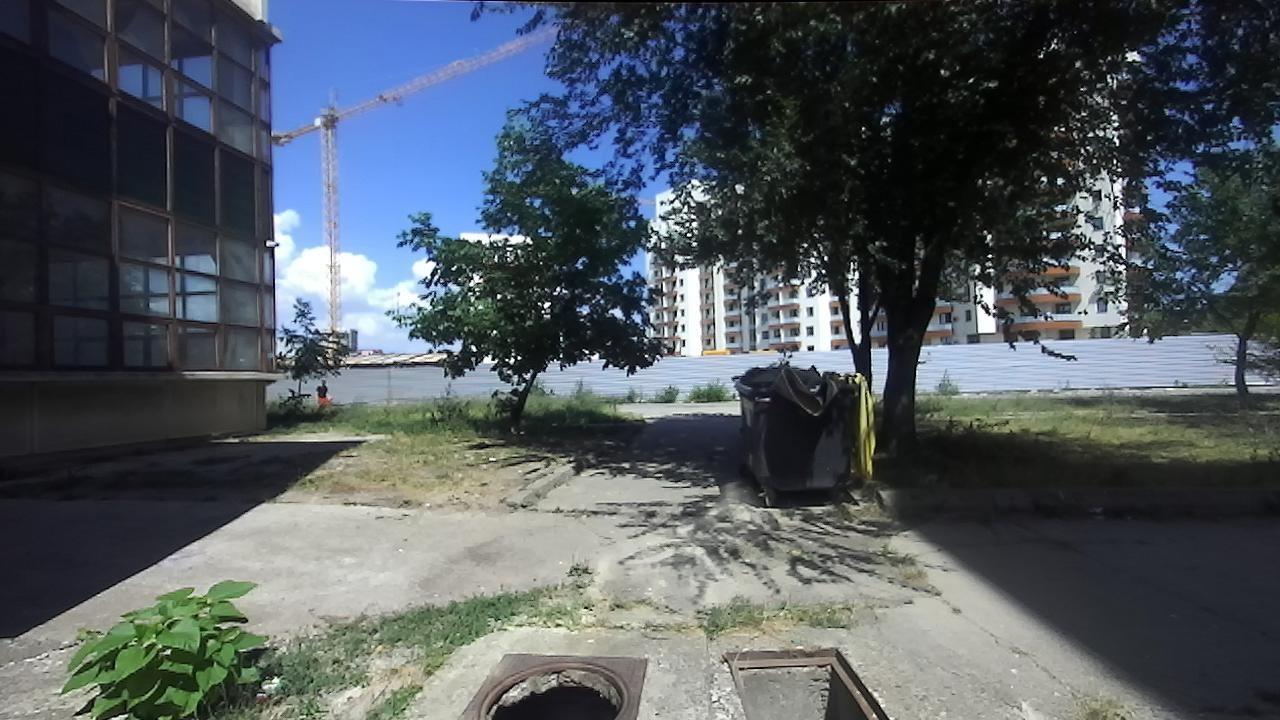drain: (719, 644, 896, 719), (473, 658, 630, 717)
